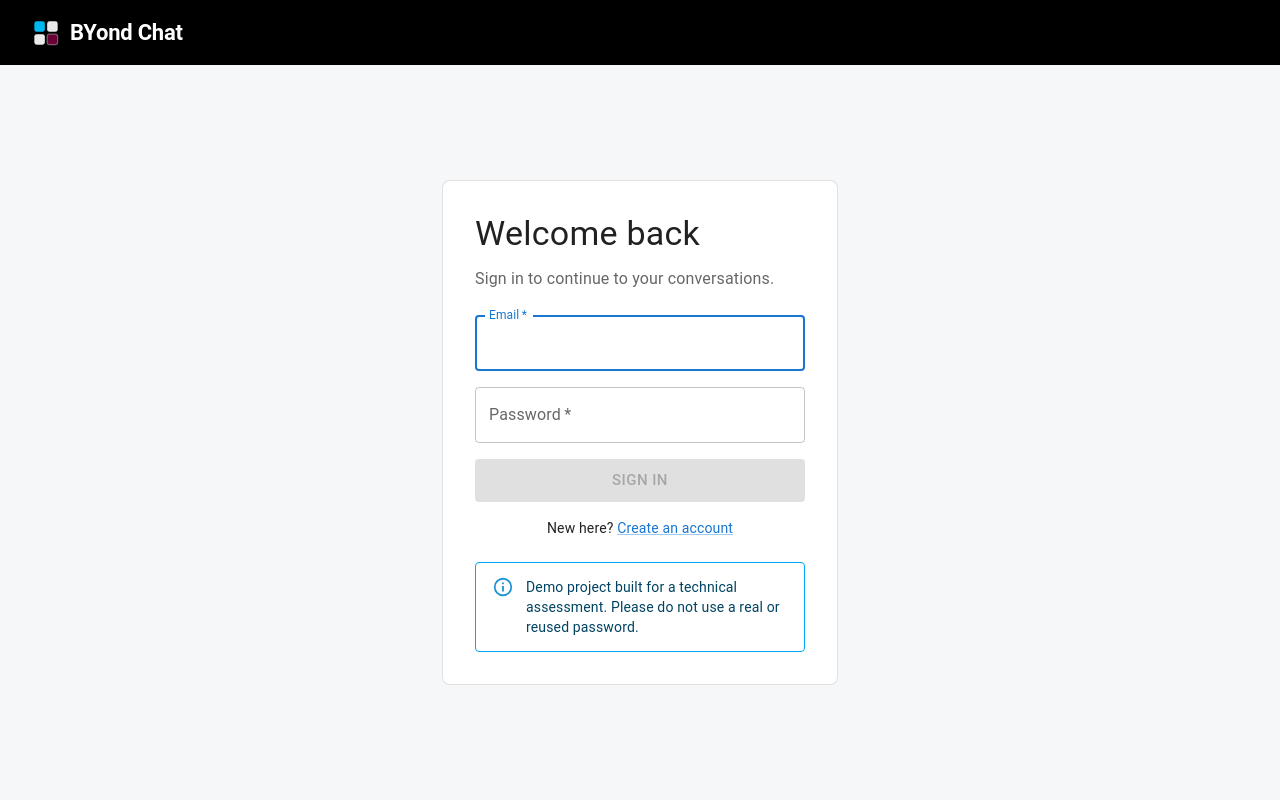
auth pages › keeps the sign-in button disabled until both fields are filled
The width and height of the screenshot is (1280, 800).
Expected: the button "Sign in" is disabled, [475,459,805,502]
Type "ada@example.com" into the field labelled "Email *" at (640, 343), box [475,315,805,371]
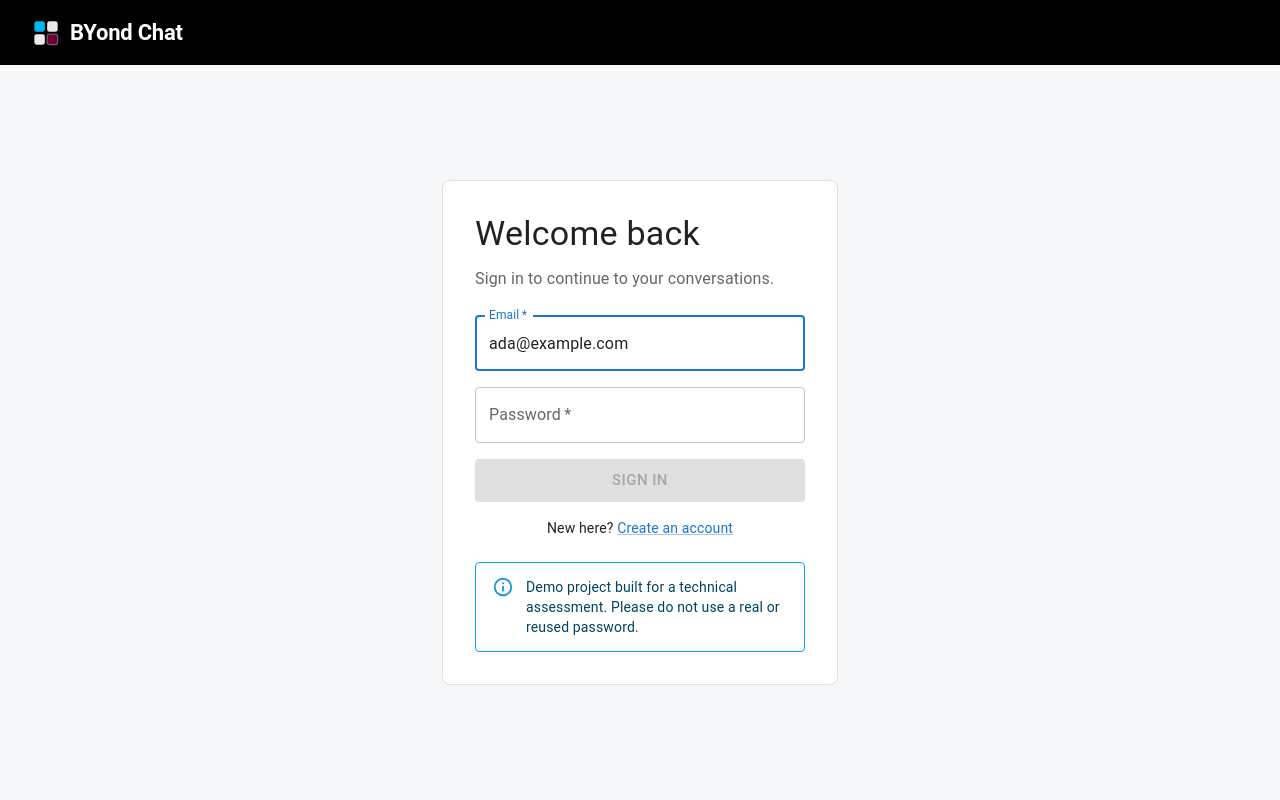
Type "pw" into the password field labelled "Password *" at (640, 415), box [475,387,805,443]
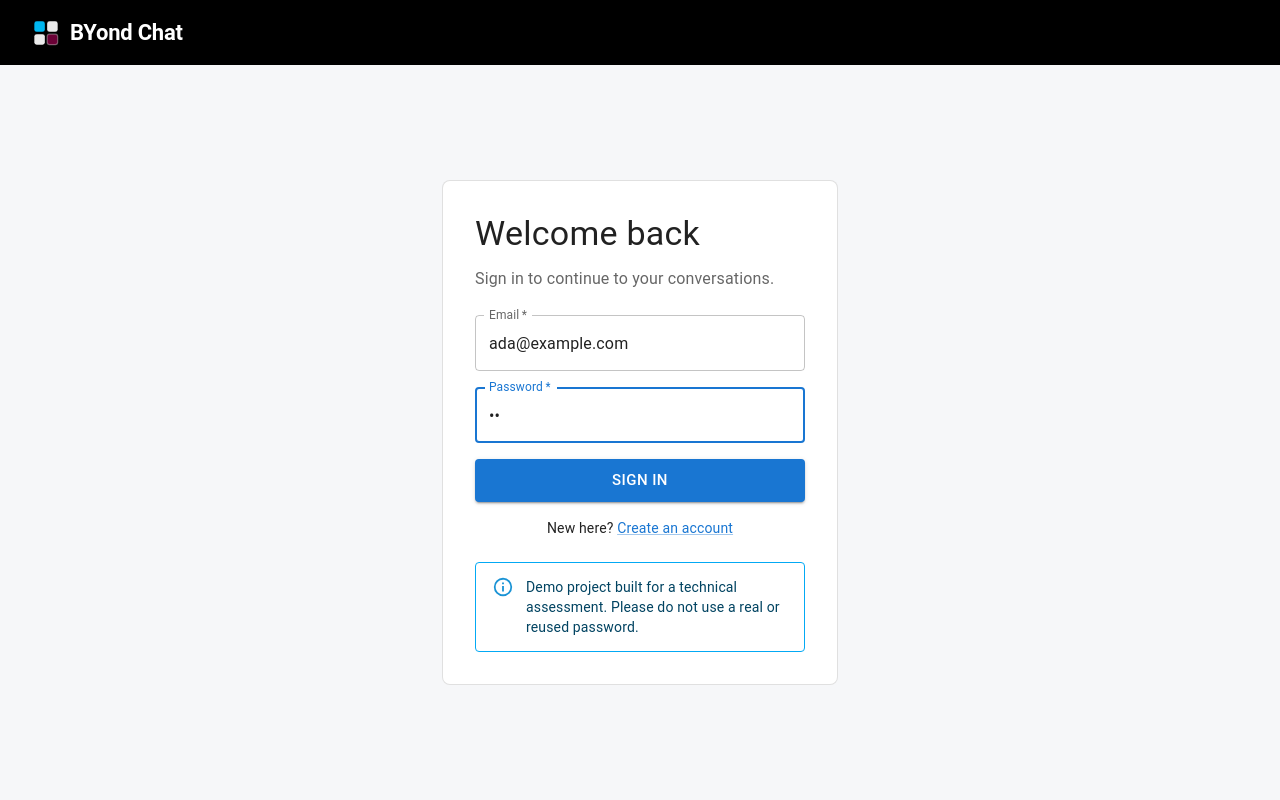
Expected: the button "Sign in" is enabled, [475,459,805,502]
